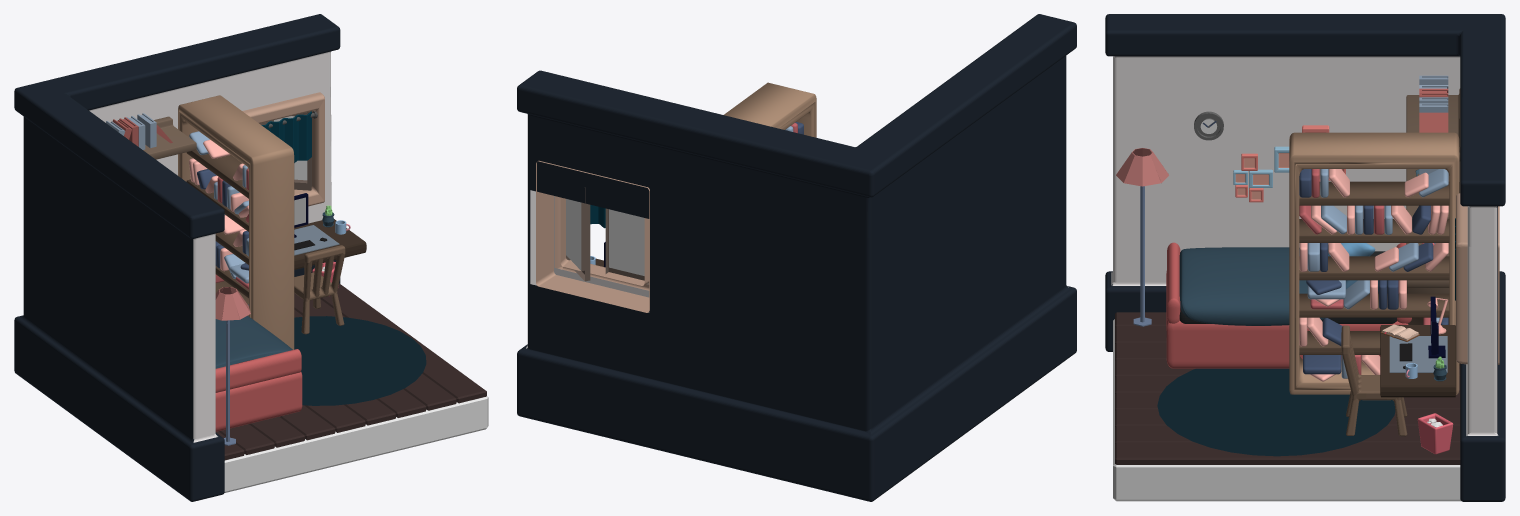
File: Default_Bedroom.fbx
3 views of the same model, side by side, from view 1: azimuth 30°, elevation 25°; view 2: azimuth 150°, elevation 25°; view 3: azimuth 270°, elevation 25° (orthographic). The views are drawn at different scales.
Parts seen in each view (by area): view 1: walls, bookshelf, room base, rug, base, bed, my books, window, chair, planks, blanket, big lamp (+5 smaller); view 2: walls, window, windows, bookshelf; view 3: walls, room base, rug, my books, base, bookshelf, planks, blanket, bed, desk, window, chair (+10 smaller).
Part boxes in pixels (bbox=[...]): walls: bbox=[14, 14, 340, 501]; bookshelf: bbox=[178, 95, 294, 349]; room base: bbox=[215, 283, 486, 460]; rug: bbox=[294, 316, 426, 405]; base: bbox=[224, 396, 488, 492]; bed: bbox=[215, 349, 302, 431]; my books: bbox=[189, 131, 248, 316]; window: bbox=[242, 92, 324, 206]; chair: bbox=[294, 245, 345, 334]; planks: bbox=[186, 149, 248, 304]; blanket: bbox=[215, 315, 292, 368]; big lamp: bbox=[215, 287, 250, 445]; walls: bbox=[517, 14, 1076, 501]; window: bbox=[536, 160, 649, 312]; windows: bbox=[566, 187, 649, 284]; bookshelf: bbox=[724, 82, 816, 137]; walls: bbox=[1105, 14, 1505, 501]; room base: bbox=[1115, 312, 1460, 464]; rug: bbox=[1157, 368, 1395, 456]; my books: bbox=[1299, 169, 1448, 381]; base: bbox=[1113, 319, 1461, 501]; bookshelf: bbox=[1289, 132, 1459, 394]; planks: bbox=[1299, 181, 1449, 354]; blanket: bbox=[1179, 247, 1327, 325]; bed: bbox=[1166, 242, 1408, 368]; desk: bbox=[1380, 325, 1456, 397]; window: bbox=[1456, 193, 1499, 364]; chair: bbox=[1341, 325, 1407, 436].
Size of the model in its own units: 226 by 202 by 226.
